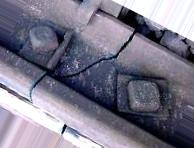tracks_fault: (13, 24, 146, 114)
